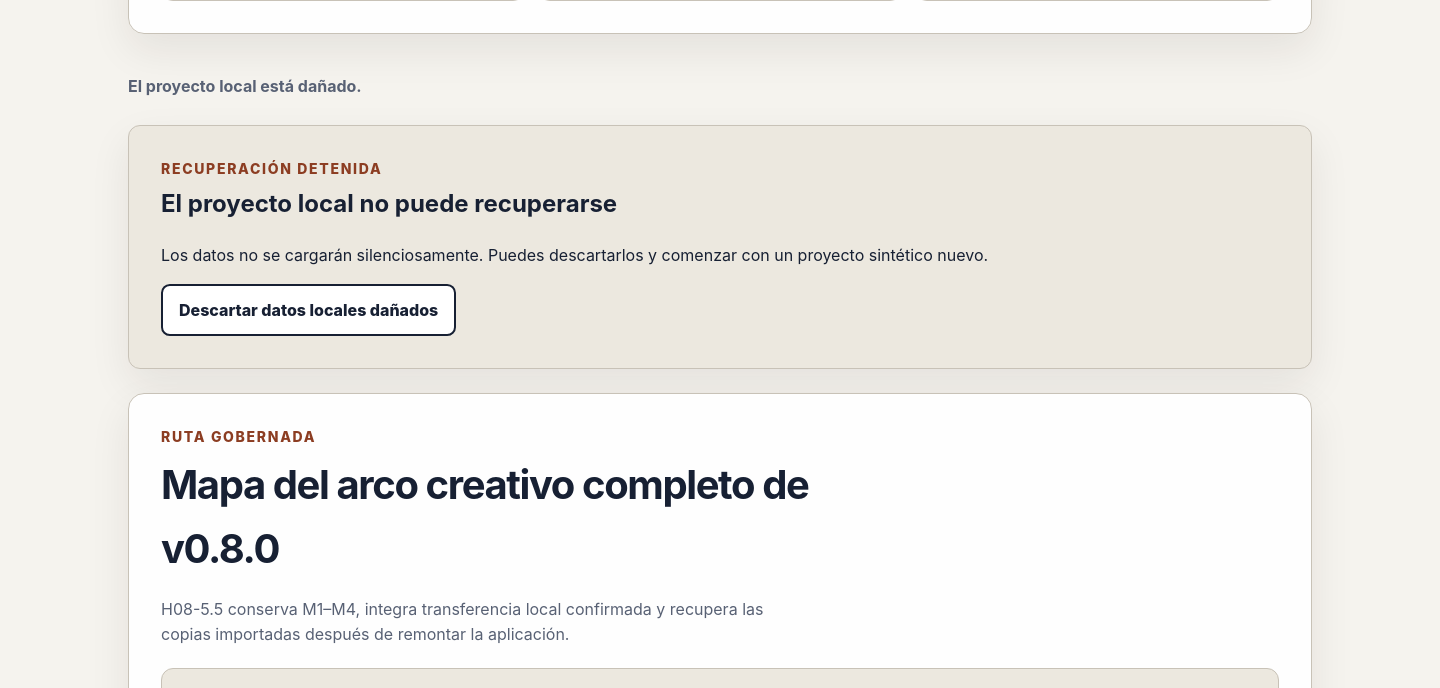
Test case: recovery and export presentation › bloquea datos corruptos y permite descartarlos
(page scrolled)
Expected: the heading "El proyecto local no puede recuperarse" is shown, 161,188 -> 617,218
Click the button "Descartar datos locales dañados".
click(309, 310)  # box 161,284 -> 456,336
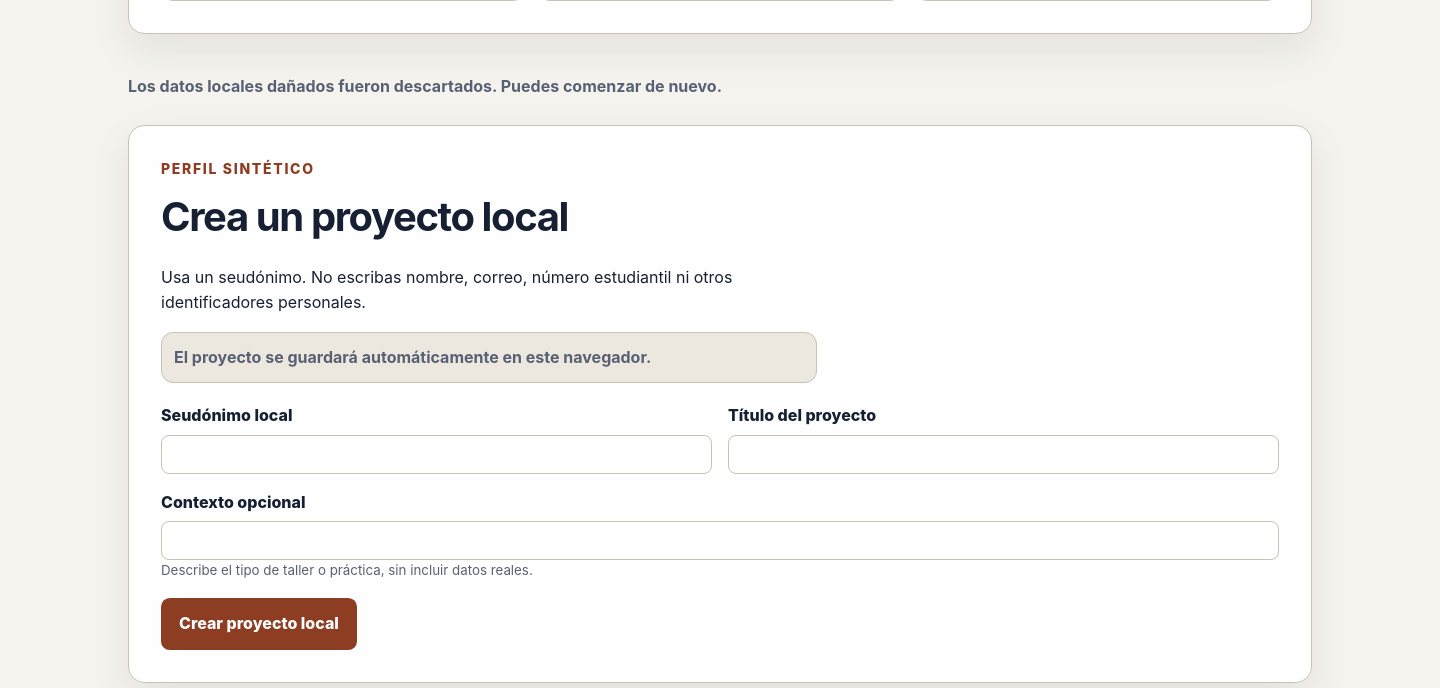
Expected: the field labelled "Seudónimo local" is shown, 161,434 -> 712,474
